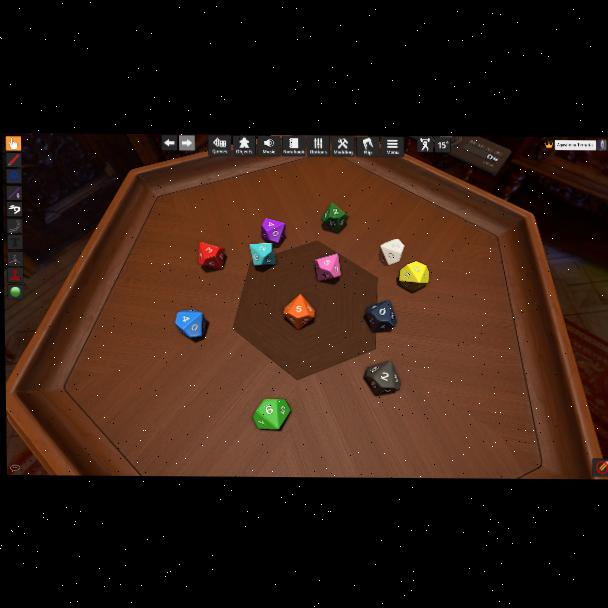d10: (364, 361, 399, 396), (253, 398, 291, 430), (283, 294, 314, 329), (363, 300, 394, 332), (175, 308, 206, 338), (400, 262, 430, 292), (323, 203, 349, 234), (315, 254, 341, 282), (198, 241, 223, 270), (261, 218, 286, 246), (380, 239, 404, 266), (251, 243, 277, 267)
